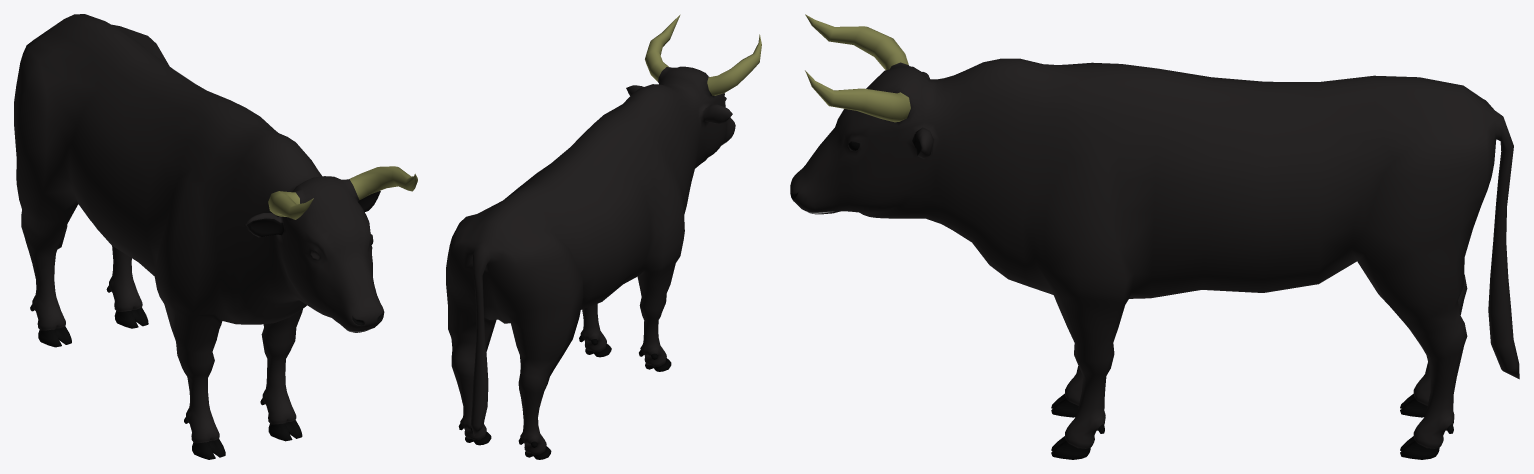
File: bull.obj
The picture shows the model from 3 angles, left to right: view 1: azimuth 30°, elevation 25°; view 2: azimuth 150°, elevation 25°; view 3: azimuth 270°, elevation 25°; orthographic projection. The views are drawn at different scales.
Visible parts, largest first — view 1: bull; view 2: bull; view 3: bull.
Boxes of the visible parts, left/top/right/bottom form: bull: left=14, top=14, right=417, bottom=459; bull: left=446, top=14, right=761, bottom=459; bull: left=790, top=14, right=1519, bottom=459.
Size of the model in its own units: 0.7446 by 1.55 by 2.63.
